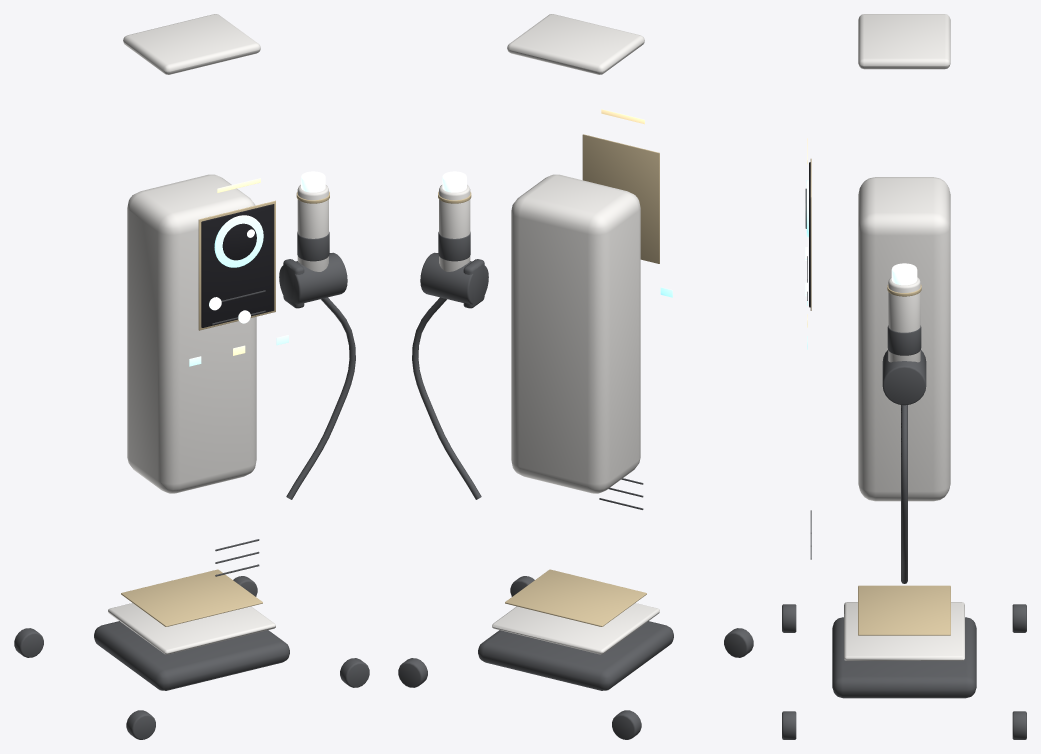
The model's file is aurum-laser-machine-v1-backup.glb.
3 views of the same model, side by side, from view 1: azimuth 30°, elevation 25°; view 2: azimuth 150°, elevation 25°; view 3: azimuth 270°, elevation 25° (orthographic). The views are drawn at different scales.
Visible parts, largest first — view 1: Body, Base, Screen, TopCap, GoldStripLow, BaseTop, HolderCup, Handpiece, Cable, UI_Dial, ScreenTrim, UI_DialInner (+5 smaller); view 2: Body, Base, TopCap, ScreenTrim, GoldStripLow, BaseTop, HolderCup, Handpiece, Cable, HandpieceGrip, Wheel_0, Wheel_2 (+2 smaller); view 3: Body, Base, TopCap, GoldStripLow, BaseTop, HolderCup, Handpiece, Cable, HandpieceGrip, HandpieceTip, Wheel_1, Wheel_3 (+2 smaller).
Part boxes in pixels (x1,y1,x2,y2): Body: [127, 174, 256, 493]; Base: [94, 621, 289, 690]; Screen: [201, 204, 274, 327]; TopCap: [123, 14, 260, 74]; GoldStripLow: [121, 569, 262, 626]; BaseTop: [108, 603, 275, 654]; HolderCup: [279, 252, 347, 304]; Handpiece: [297, 185, 328, 271]; Cable: [286, 297, 355, 499]; UI_Dial: [214, 215, 263, 267]; ScreenTrim: [198, 200, 275, 330]; UI_DialInner: [222, 223, 256, 260]; Body: [511, 174, 640, 493]; Base: [478, 621, 673, 690]; TopCap: [507, 14, 644, 74]; ScreenTrim: [582, 134, 659, 263]; GoldStripLow: [505, 569, 646, 626]; BaseTop: [492, 603, 659, 654]; HolderCup: [420, 252, 488, 304]; Handpiece: [439, 185, 470, 271]; Cable: [412, 297, 481, 499]; HandpieceGrip: [438, 232, 470, 261]; Wheel_0: [724, 628, 753, 657]; Wheel_2: [612, 710, 641, 739]; Body: [858, 177, 950, 501]; Base: [832, 617, 976, 698]; TopCap: [858, 14, 950, 69]; GoldStripLow: [858, 585, 950, 635]; BaseTop: [844, 602, 964, 660]; HolderCup: [882, 350, 926, 405]; Handpiece: [888, 277, 920, 362]; Cable: [901, 405, 907, 583]; HandpieceGrip: [887, 325, 921, 355]; HandpieceTip: [891, 263, 917, 285]; Wheel_1: [782, 711, 796, 739]; Wheel_3: [1012, 711, 1026, 739].
Size of the model in its own units: 0.5817 by 1.24 by 0.425.
